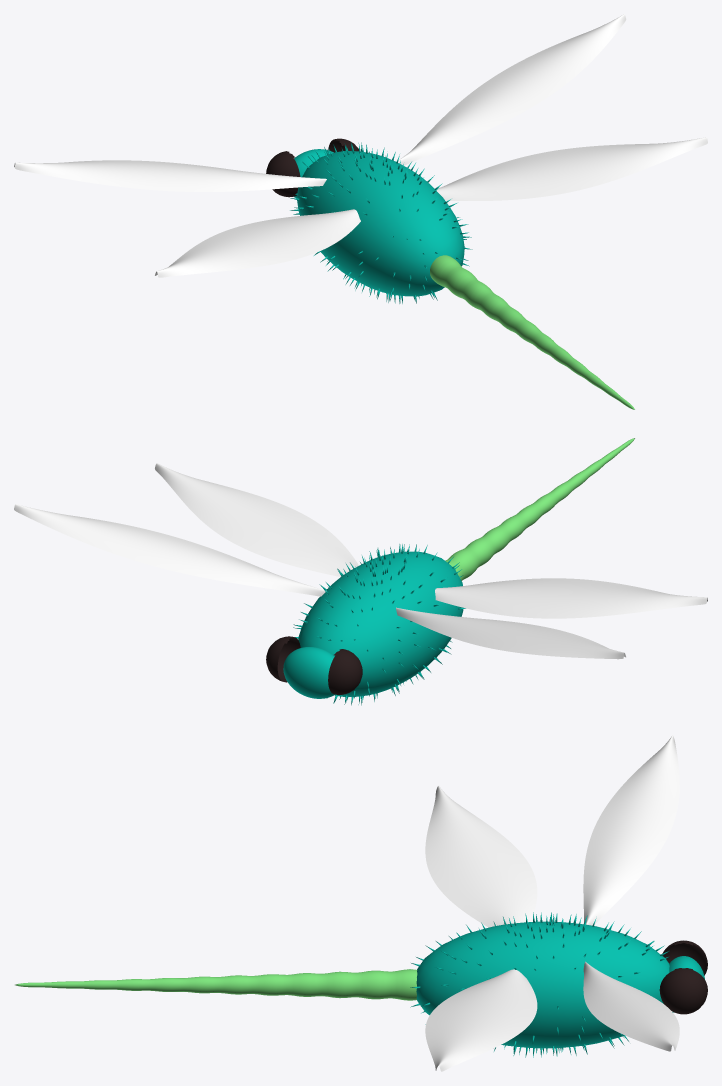
3 renders of one model, top to bottom at view 1: azimuth 30°, elevation 25°; view 2: azimuth 150°, elevation 25°; view 3: azimuth 270°, elevation 25°, orthographic. The views are drawn at different scales.
Parts seen in each view (by area): view 1: thorax, forewing, hindwing, hindwing.001, forewing.001, abdomen, compound_eye.001; view 2: thorax, hindwing, hindwing.001, forewing, forewing.001, abdomen, head, compound_eye.001, compound_eye; view 3: thorax, hindwing.001, forewing.001, hindwing, abdomen, forewing, compound_eye, compound_eye.001.
Boxes of the visible parts, bbox=[...] form: thorax: bbox=[290, 142, 472, 303]; forewing: bbox=[398, 14, 626, 165]; hindwing: bbox=[436, 137, 707, 200]; hindwing.001: bbox=[155, 209, 360, 277]; forewing.001: bbox=[14, 160, 326, 191]; abdomen: bbox=[430, 255, 634, 409]; compound_eye.001: bbox=[266, 151, 300, 197]; thorax: bbox=[293, 544, 465, 705]; hindwing: bbox=[155, 463, 358, 576]; hindwing.001: bbox=[435, 578, 707, 618]; forewing: bbox=[14, 504, 326, 596]; forewing.001: bbox=[396, 607, 625, 659]; abdomen: bbox=[445, 438, 634, 580]; head: bbox=[283, 647, 334, 698]; compound_eye.001: bbox=[328, 649, 362, 694]; compound_eye: bbox=[266, 636, 300, 682]; thorax: bbox=[410, 912, 673, 1057]; hindwing.001: bbox=[425, 785, 537, 927]; forewing.001: bbox=[583, 735, 679, 925]; hindwing: bbox=[425, 969, 537, 1071]; abdomen: bbox=[15, 969, 417, 1000]; forewing: bbox=[583, 961, 679, 1051]; compound_eye: bbox=[659, 968, 707, 1014]; compound_eye.001: bbox=[662, 940, 707, 975].
Size of the model in its own units: 10.67 by 2.57 by 10.05.
